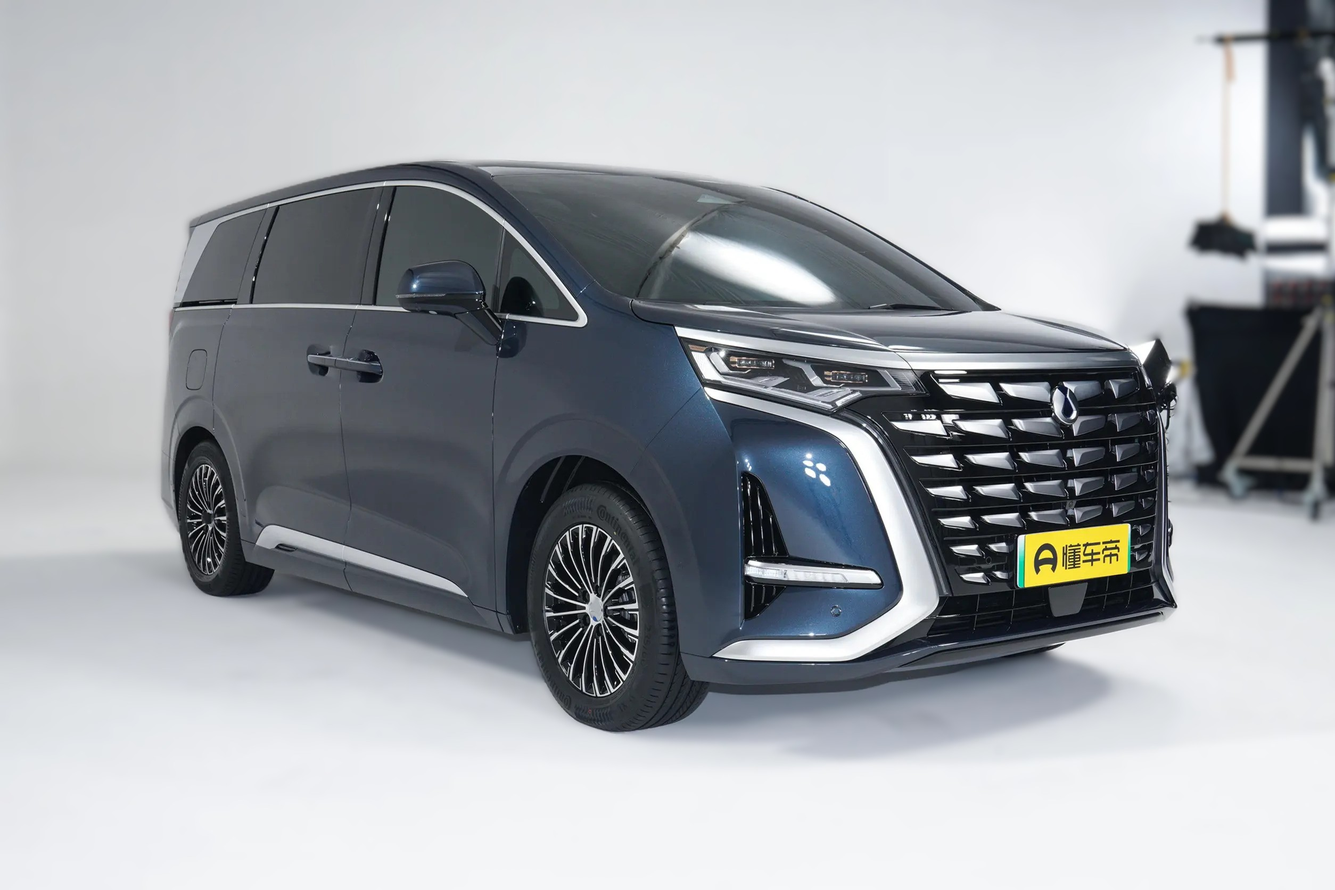DENZA: (1053, 387, 1078, 423)
